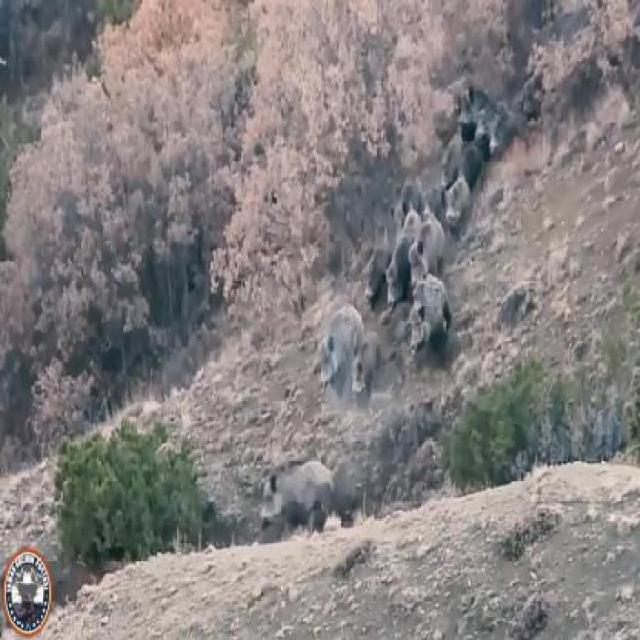Boar: (259, 452, 343, 550), (312, 288, 374, 408), (406, 275, 454, 368), (410, 208, 452, 297), (357, 228, 392, 317), (383, 222, 417, 312), (351, 318, 384, 408), (445, 165, 477, 232)
